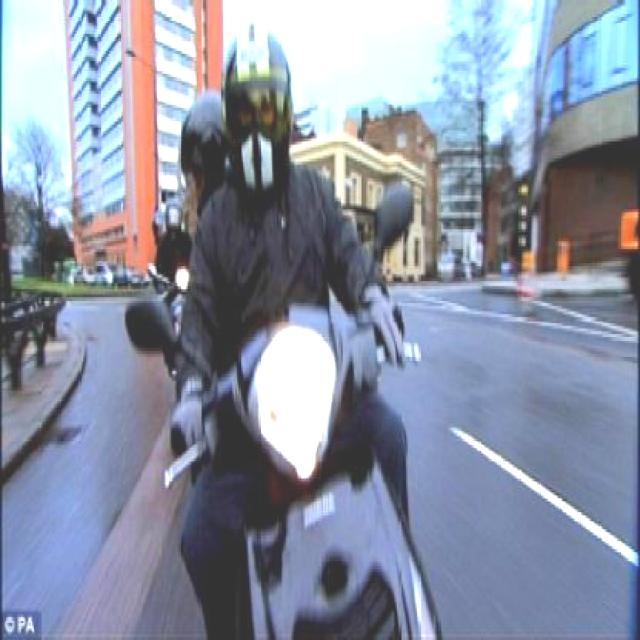With Helmet: (222, 26, 296, 188), (176, 79, 233, 210)
